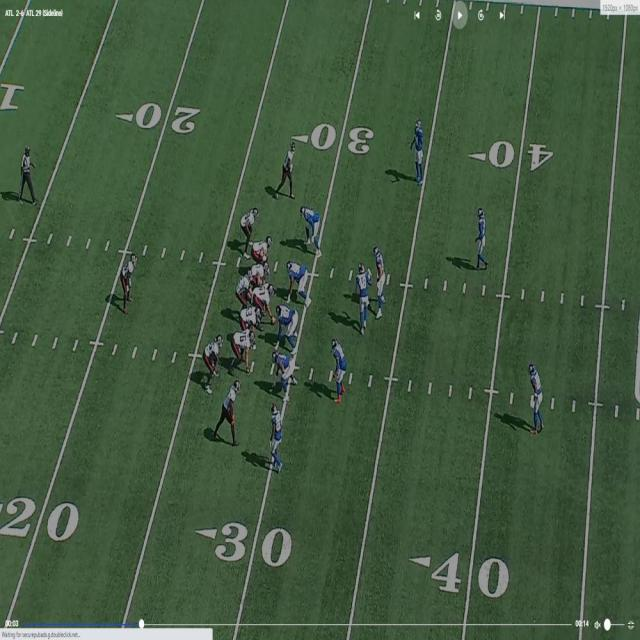center: (256, 284, 276, 328)
db: (529, 368, 542, 438), (272, 403, 284, 468), (414, 119, 425, 183), (476, 205, 486, 268)
lb: (356, 268, 369, 330), (375, 248, 387, 312), (332, 339, 345, 382)
qb: (236, 271, 252, 310)
skill: (222, 379, 239, 444), (278, 146, 296, 196), (123, 251, 137, 308), (205, 337, 221, 384), (237, 333, 253, 370), (242, 211, 258, 241)
